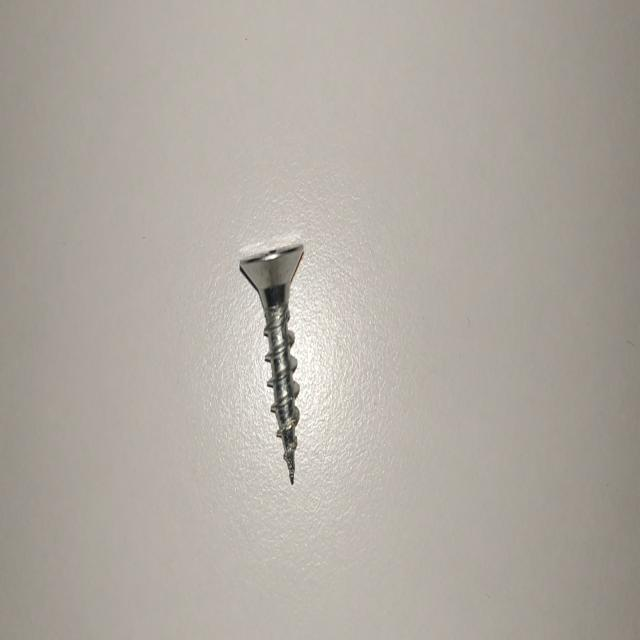Screw: (239, 242, 304, 484)
